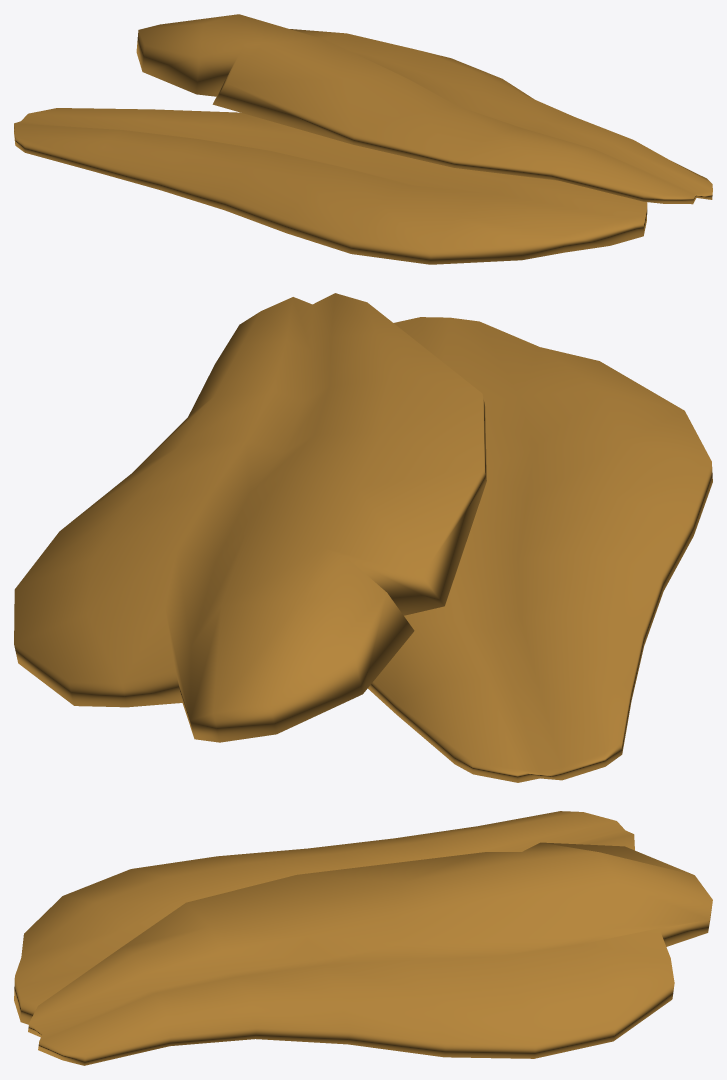
Rendered from mesh_fishandchips_fish.fbx.
3 views of the same model, one above another, from view 1: azimuth 30°, elevation 25°; view 2: azimuth 150°, elevation 25°; view 3: azimuth 270°, elevation 25° (orthographic). The views are drawn at different scales.
Visible parts, largest first — view 1: mesh_fishandchips_fish; view 2: mesh_fishandchips_fish; view 3: mesh_fishandchips_fish.
Part boxes in pixels (x1,y1,x2,y2): mesh_fishandchips_fish: (14, 14, 712, 264); mesh_fishandchips_fish: (14, 293, 712, 782); mesh_fishandchips_fish: (14, 811, 712, 1065).
Size of the model in its own units: 0.1817 by 0.0316 by 0.2112.
